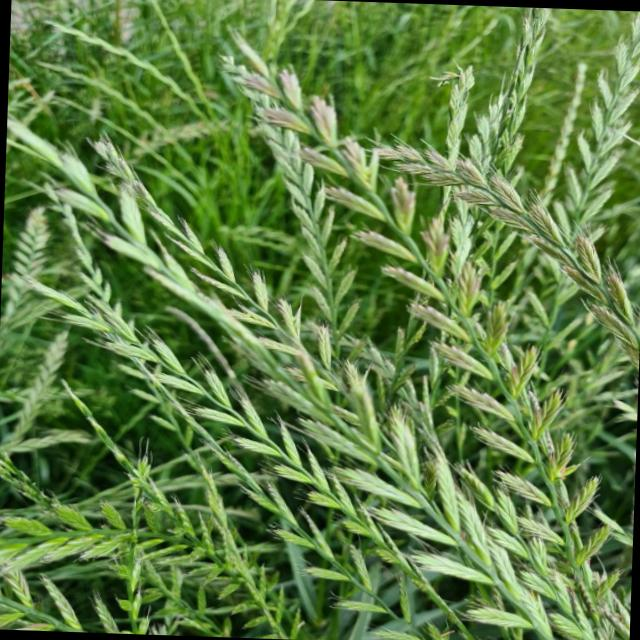Lolium: (0, 116, 567, 640), (220, 60, 636, 636), (71, 130, 406, 453), (359, 136, 640, 361), (221, 21, 369, 344), (519, 7, 640, 357), (22, 262, 210, 468), (32, 57, 202, 171), (43, 17, 215, 125), (48, 92, 207, 194), (532, 59, 594, 210), (143, 0, 217, 108), (0, 202, 54, 329)
